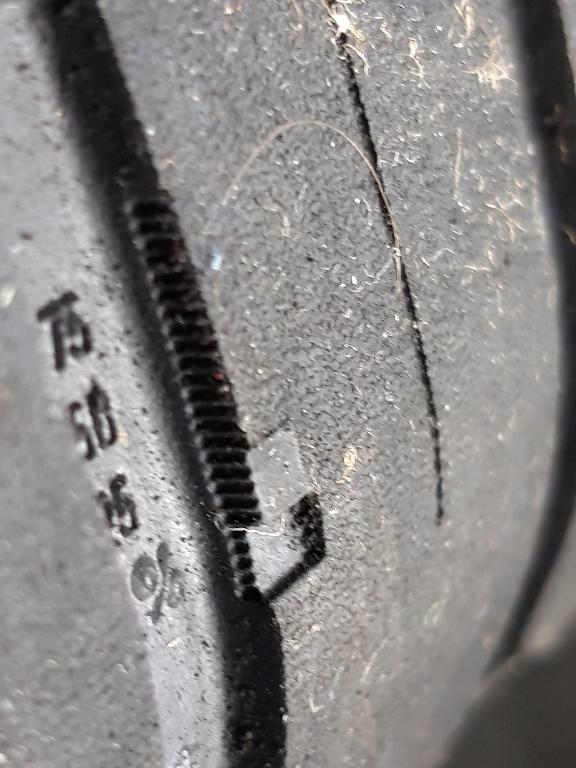temoin:25: (193, 407, 355, 627)
